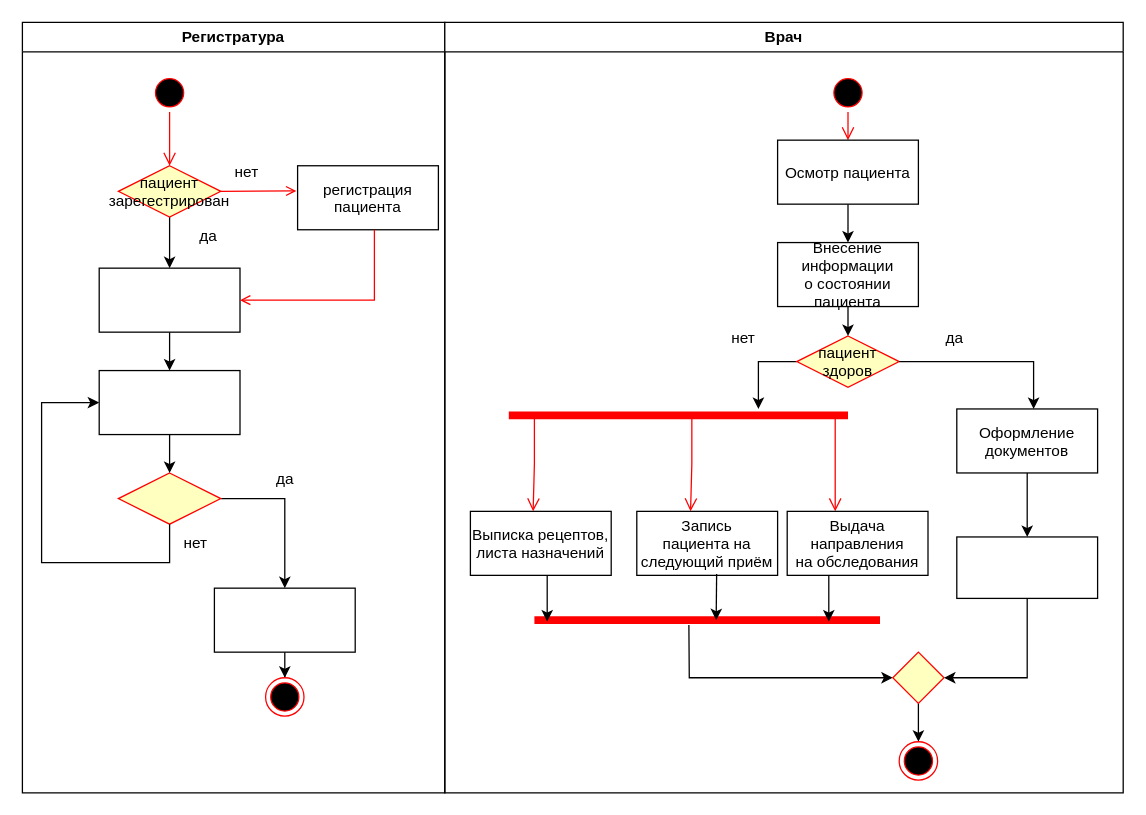
Some shapes in this 1146 by 815 pixel diagram are drawn without their labels. Here are the shapes that lost their labels. From the top down, the centre of each, then its label:
At point (169, 299): "выбор врача".
At point (169, 402): "выбор времени".
At point (169, 498): "время свободно".
At point (1027, 567): "Выписка пациента".
At point (284, 619): "Регистрация приёма".
